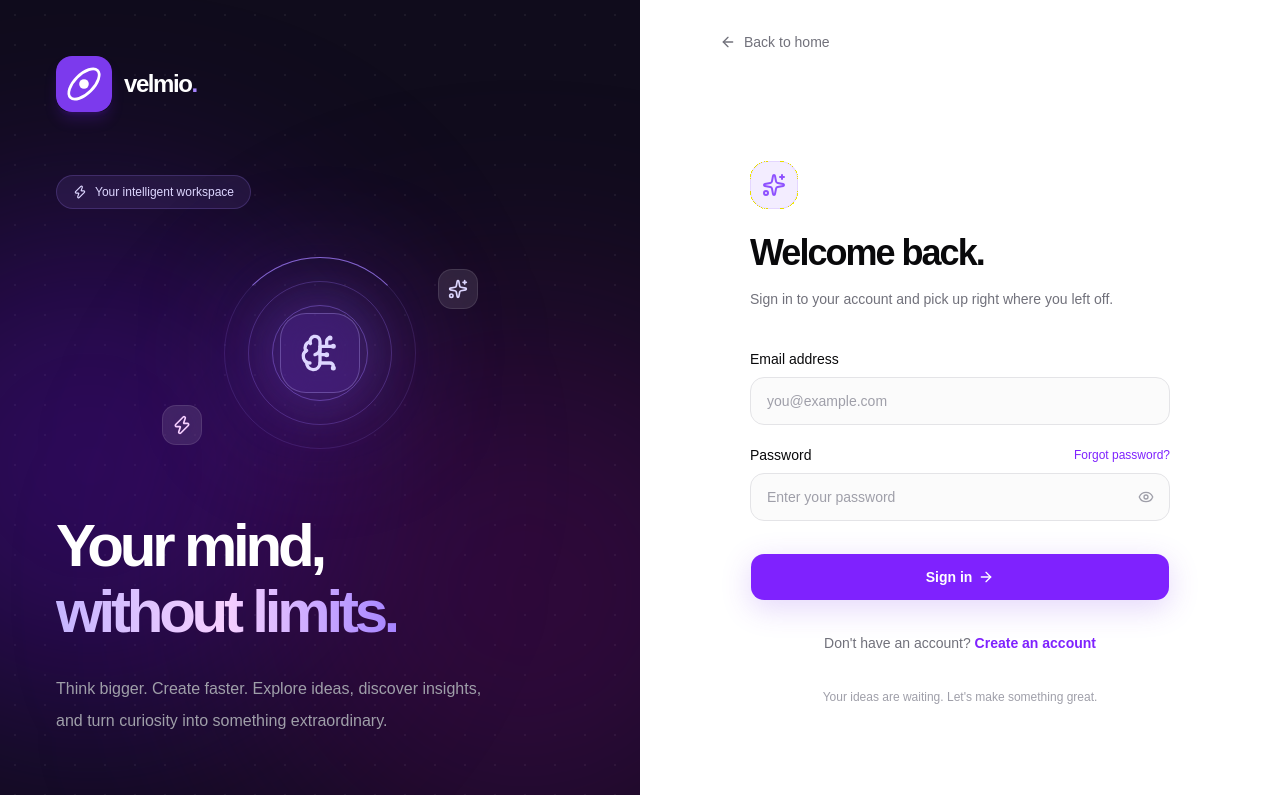
Test: SigninPage › shows an error for invalid credentials
Type "test@example.com" into the field labelled "Email address" at coordinates (960, 400), box [750, 376, 1170, 424]
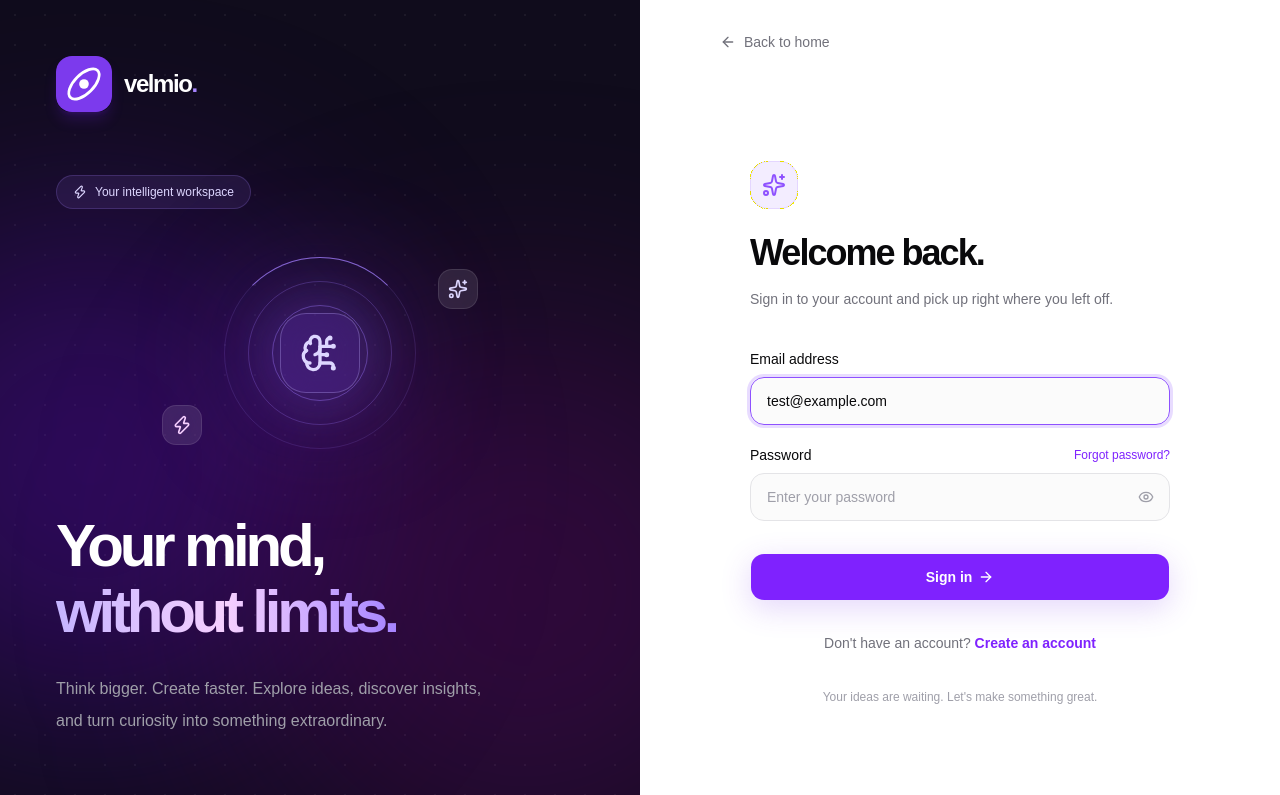
Type "wrongpassword" into the password field labelled "Password" at coordinates (960, 496), box [750, 472, 1170, 520]
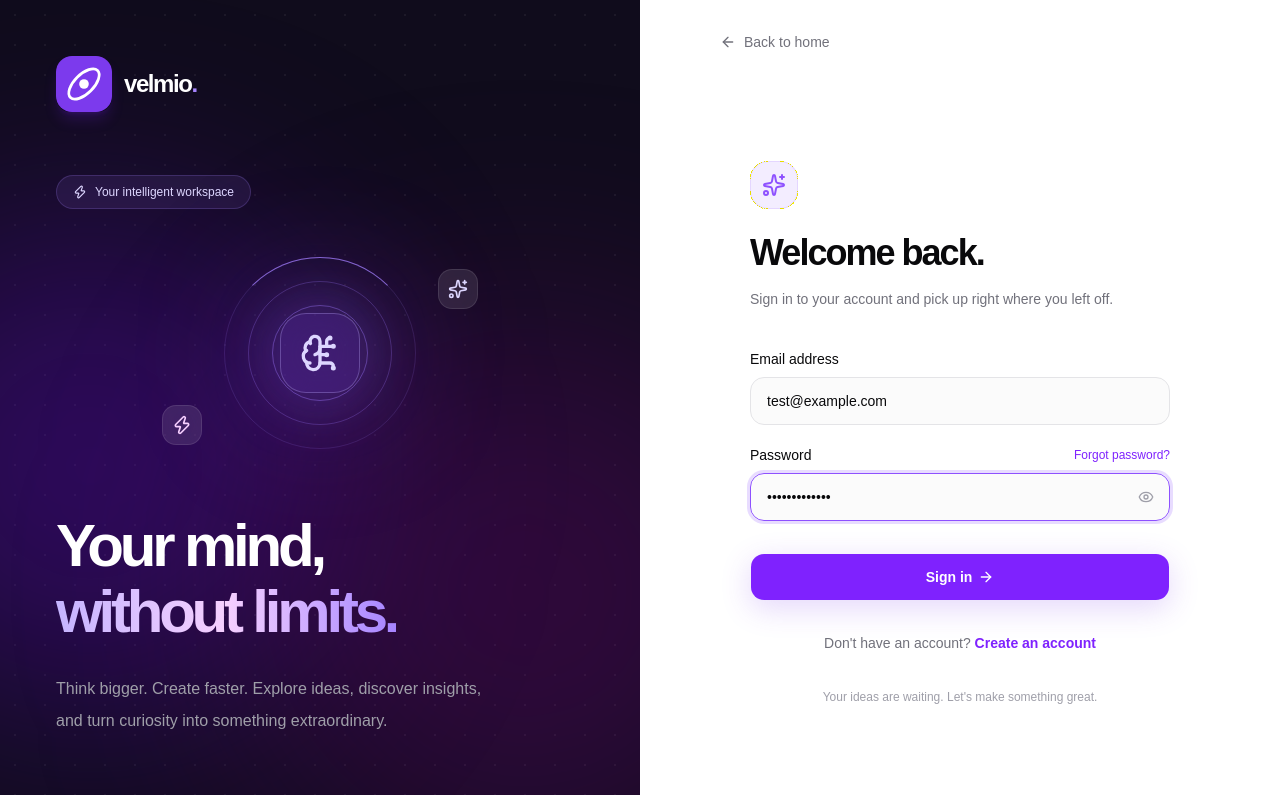
Click the button "Sign in" at coordinates (960, 576), box [750, 552, 1170, 600]
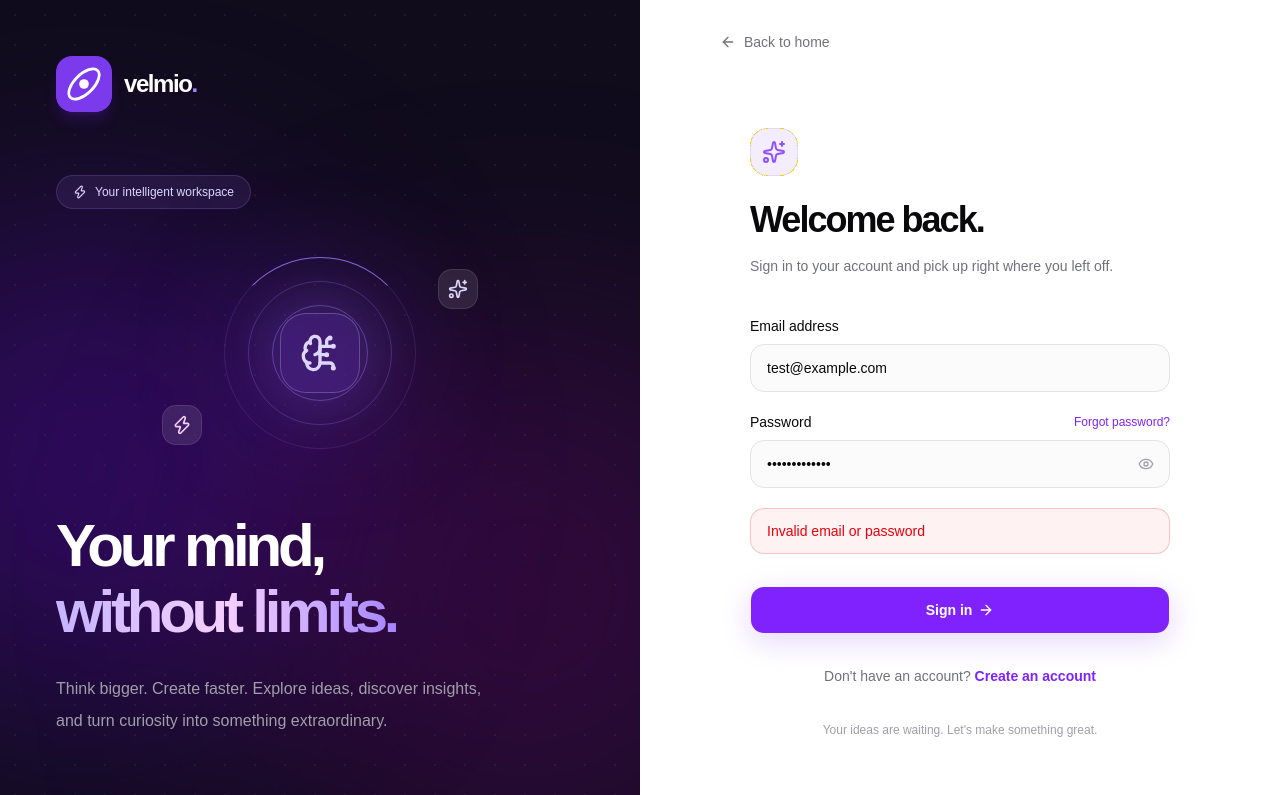
Check: the message reads "Invalid email or password", box [767, 522, 925, 538]
